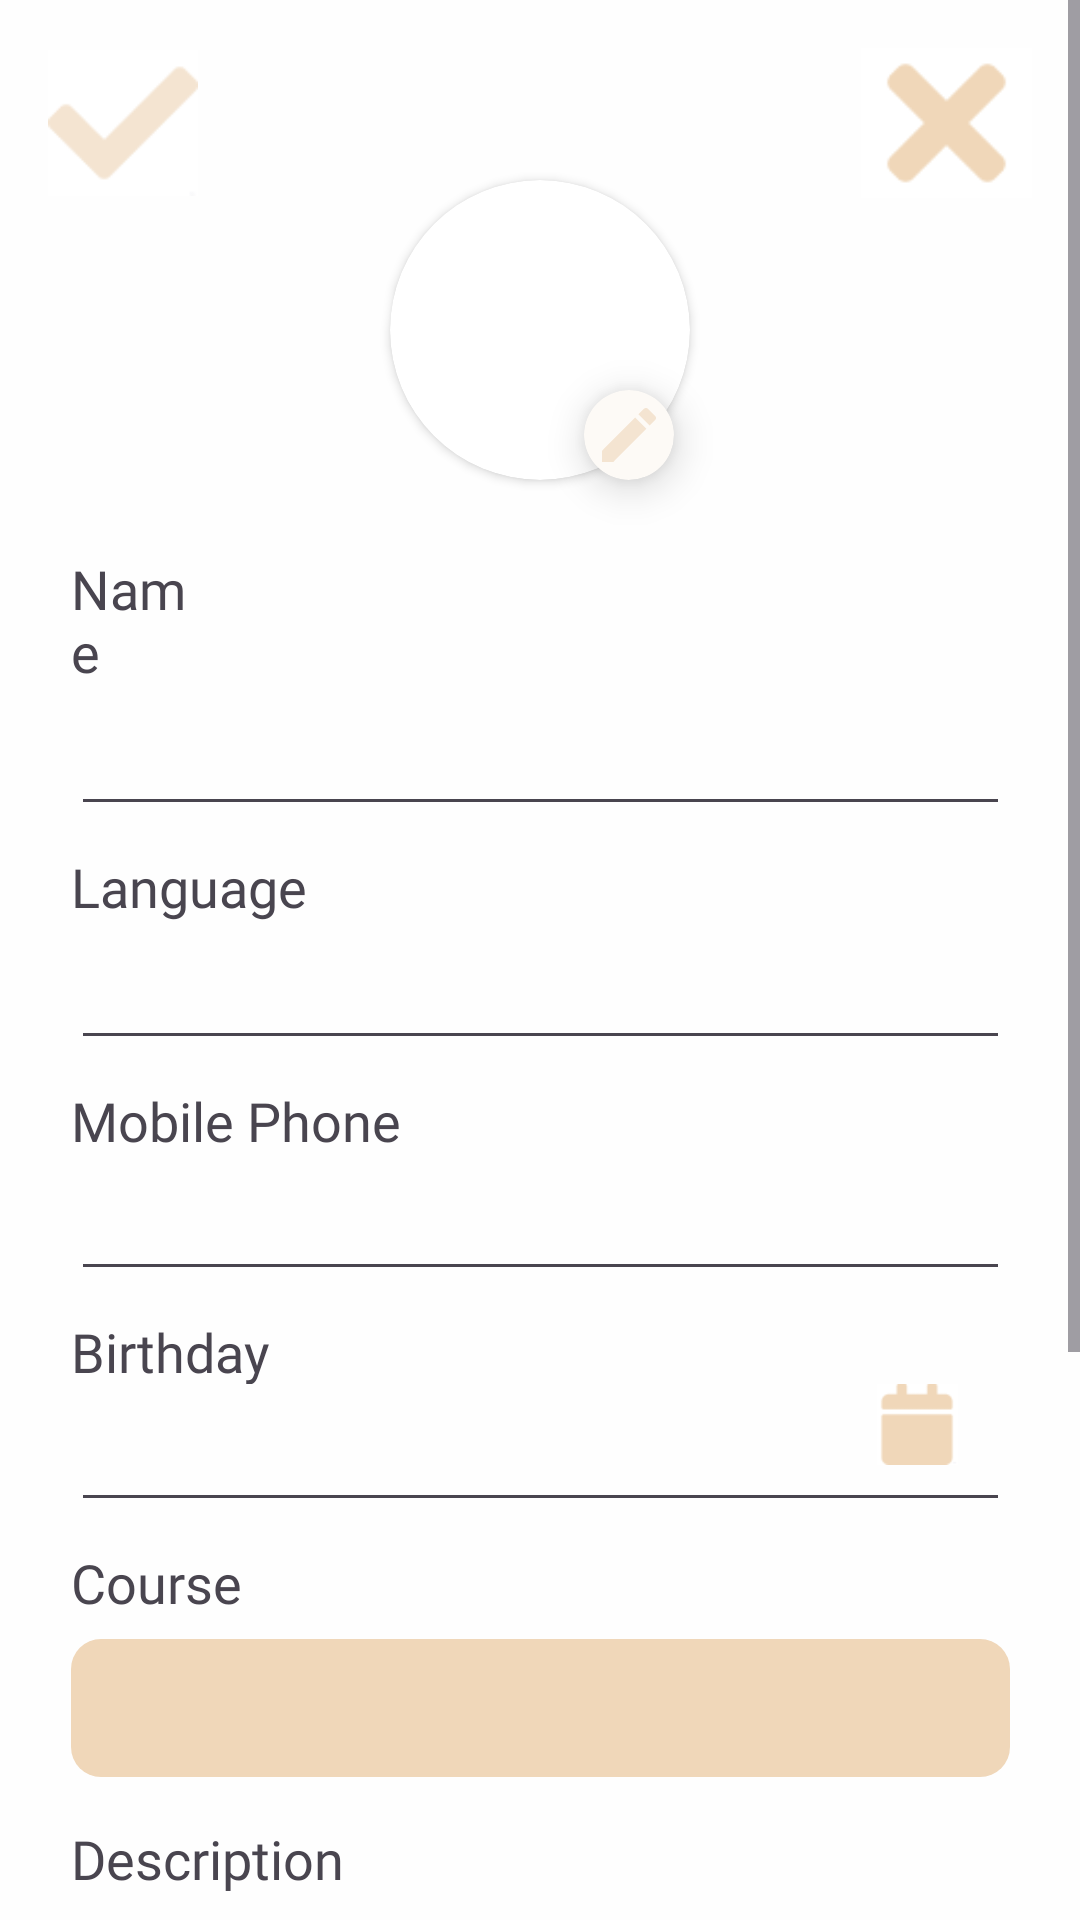

Icon bounding boxes for this 1080px x 1920px phone screenshot, format Rect(x1, y1, x2, y2):
calendar: Rect(881, 1384, 953, 1465)
cross: Rect(887, 64, 1006, 182)
edit: Rect(602, 408, 656, 462)
tick: Rect(48, 67, 198, 179)
